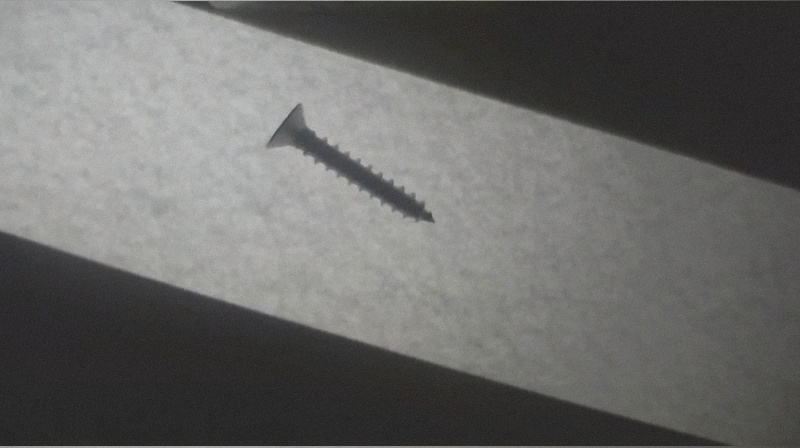S001: (263, 101, 437, 227)
